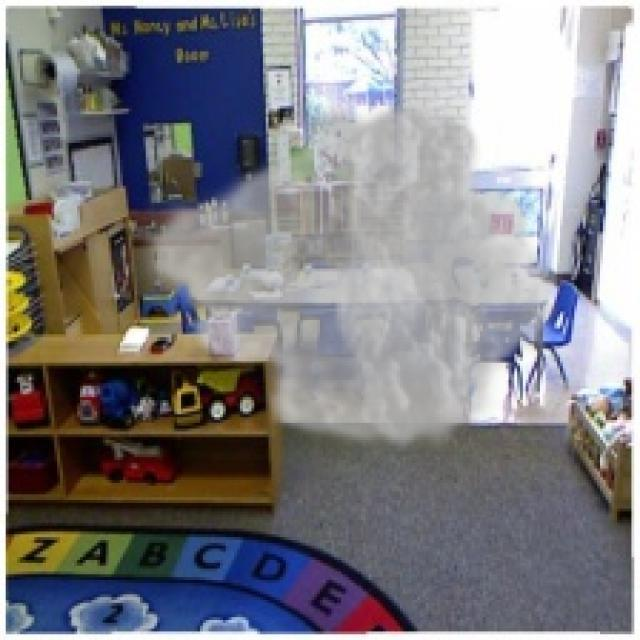Smoke: (140, 94, 560, 457)
